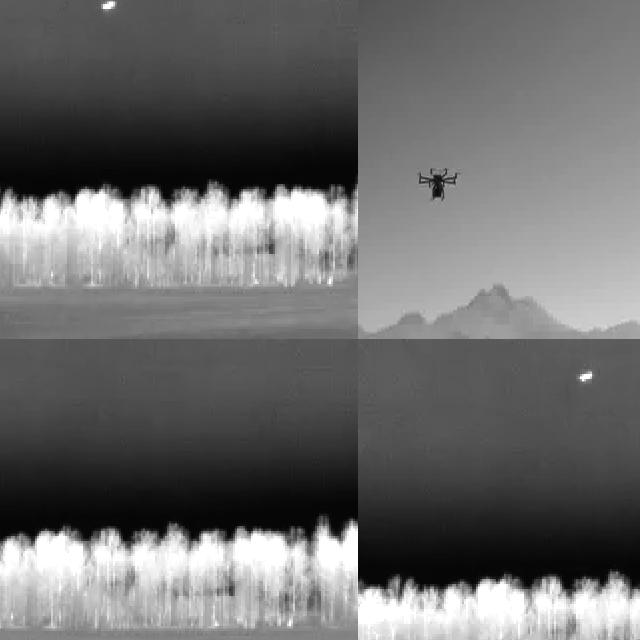1: (570, 364, 606, 394), (93, 0, 129, 23)
drone: (416, 158, 456, 205)
